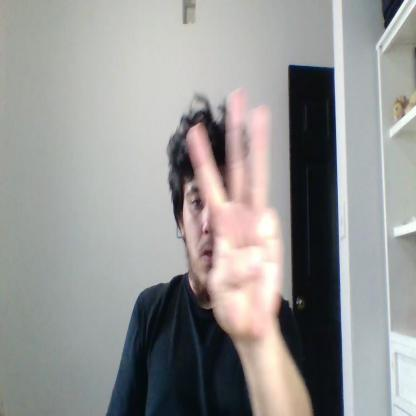W: (186, 86, 284, 338)
